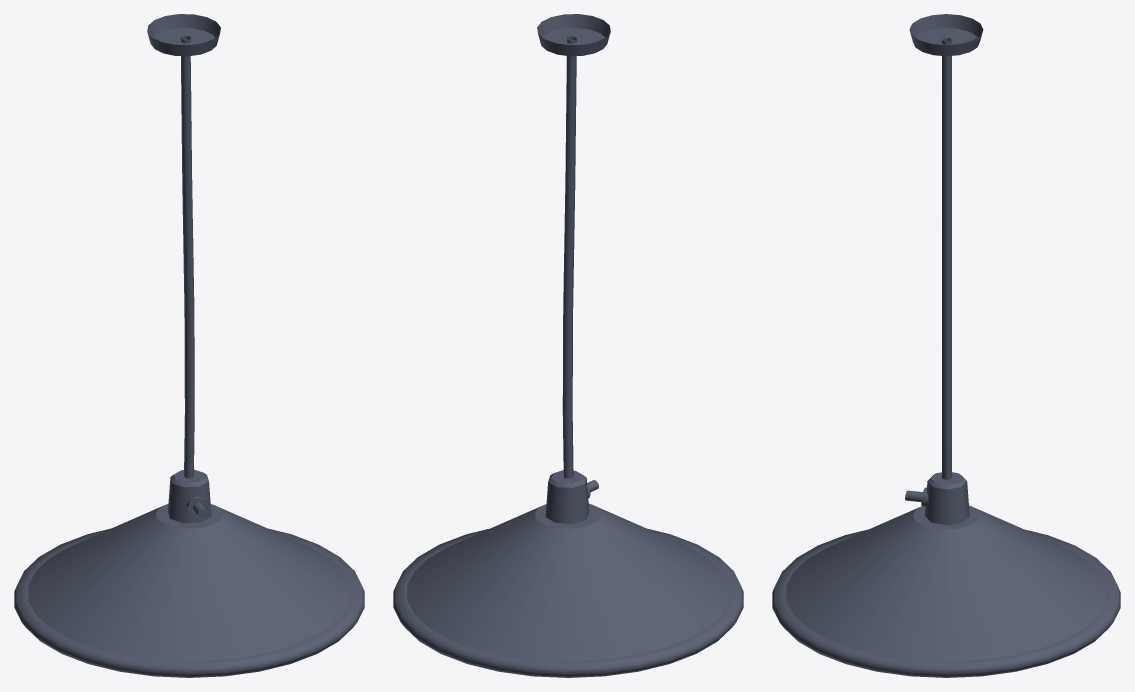
The model's file is CeilingLamp.FBX.
3 renders of one model, left to right at view 1: azimuth 30°, elevation 25°; view 2: azimuth 150°, elevation 25°; view 3: azimuth 270°, elevation 25°, orthographic.
Visible parts, largest first — view 1: CeilingLamp; view 2: CeilingLamp; view 3: CeilingLamp.
Boxes of the visible parts, <box> form: CeilingLamp: <box>14,14,364,677</box>; CeilingLamp: <box>393,14,743,677</box>; CeilingLamp: <box>772,14,1120,677</box>.
Size of the model in its own units: 86.54 by 165 by 86.06.
